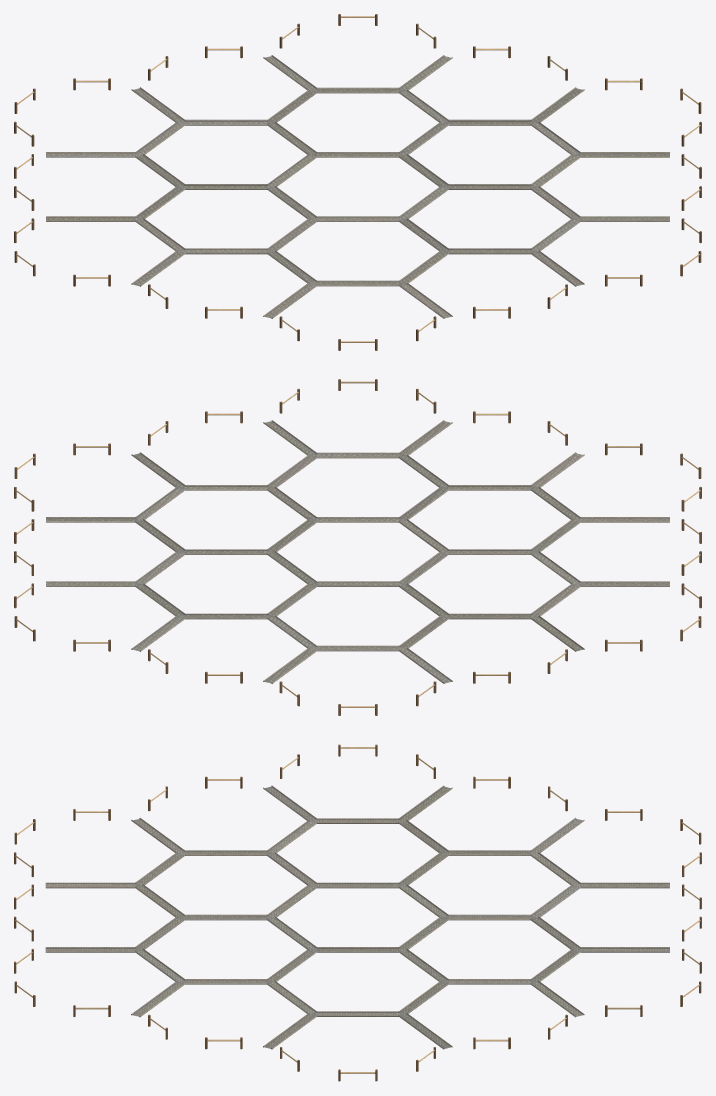
File: ground-10.glb
3 views of the same model, one above another, from view 1: azimuth 30°, elevation 25°; view 2: azimuth 150°, elevation 25°; view 3: azimuth 270°, elevation 25° (orthographic).
Visible parts, largest first — view 1: ground-10; view 2: ground-10; view 3: ground-10.
Part boxes in pixels (x1,y1,x2,y2): ground-10: [14, 14, 701, 350]; ground-10: [14, 379, 701, 715]; ground-10: [14, 744, 701, 1081].
Bounding box in the file's own units: 10.13 × 0.1599 × 9.04.
Materials: 1 (1 with a texture image).
